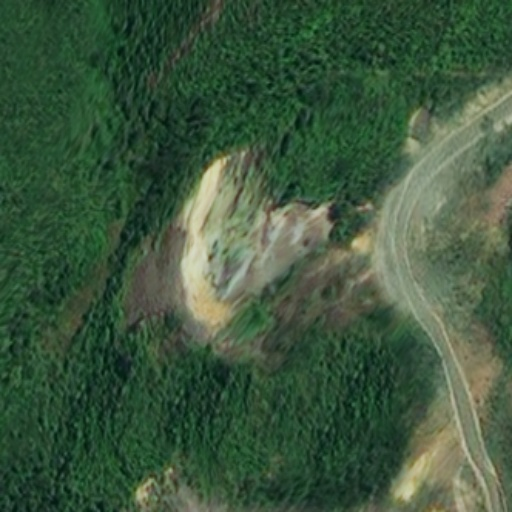landslide: (177, 149, 331, 357)
